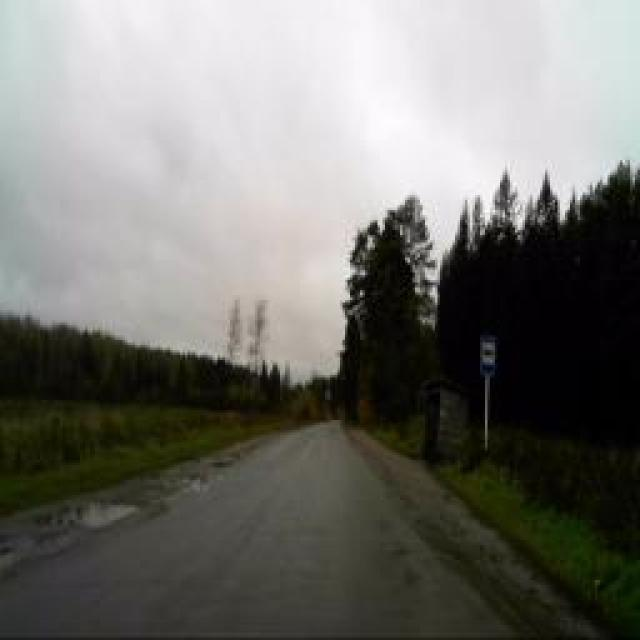sign: (480, 334, 495, 376)
